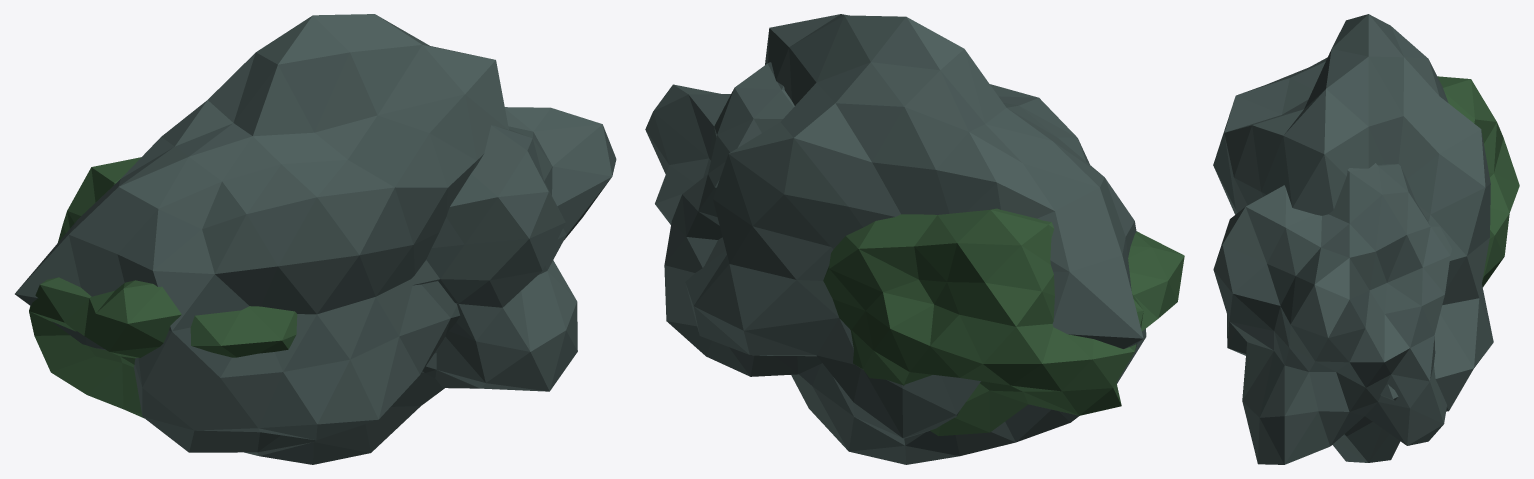
Rendered from environment.glb.
3 views of the same model, side by side, from view 1: azimuth 30°, elevation 25°; view 2: azimuth 150°, elevation 25°; view 3: azimuth 270°, elevation 25° (orthographic). The views are drawn at different scales.
Visible parts, largest first — view 1: Mountain; view 2: Mountain; view 3: Mountain.
Boxes of the visible parts, box(x1,y1,x2,y2) form: Mountain: box(15, 14, 616, 464); Mountain: box(645, 14, 1184, 464); Mountain: box(1213, 14, 1519, 464).
Bounding box in the file's own units: 193 × 151 × 96.49.
